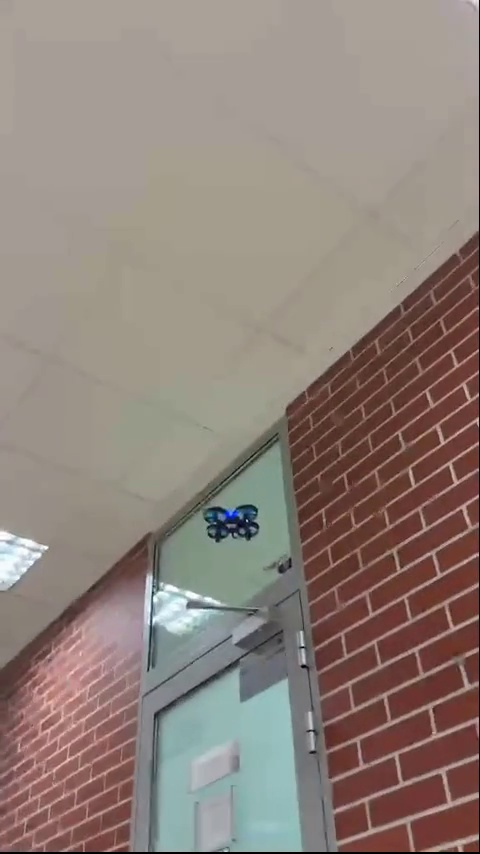drone: (204, 503, 260, 547)
